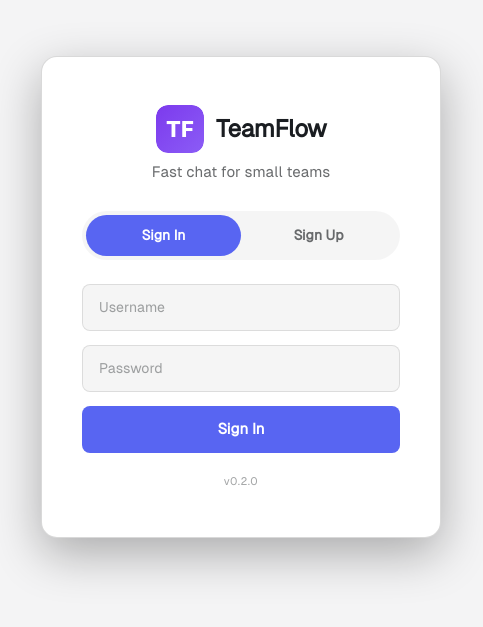
Test: AuthScreen › switches to register tab
Click the button "Sign Up" at (318, 236), box [241, 215, 396, 256]
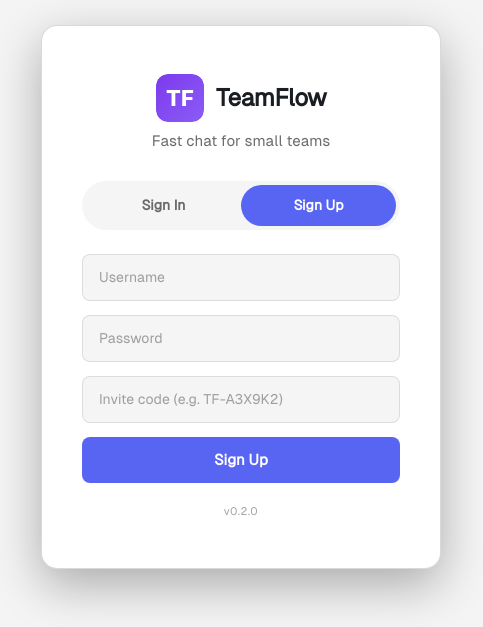
Result: the field with placeholder "Invite code (e.g. TF-A3X9K2)" is shown at [82, 376, 400, 423]
